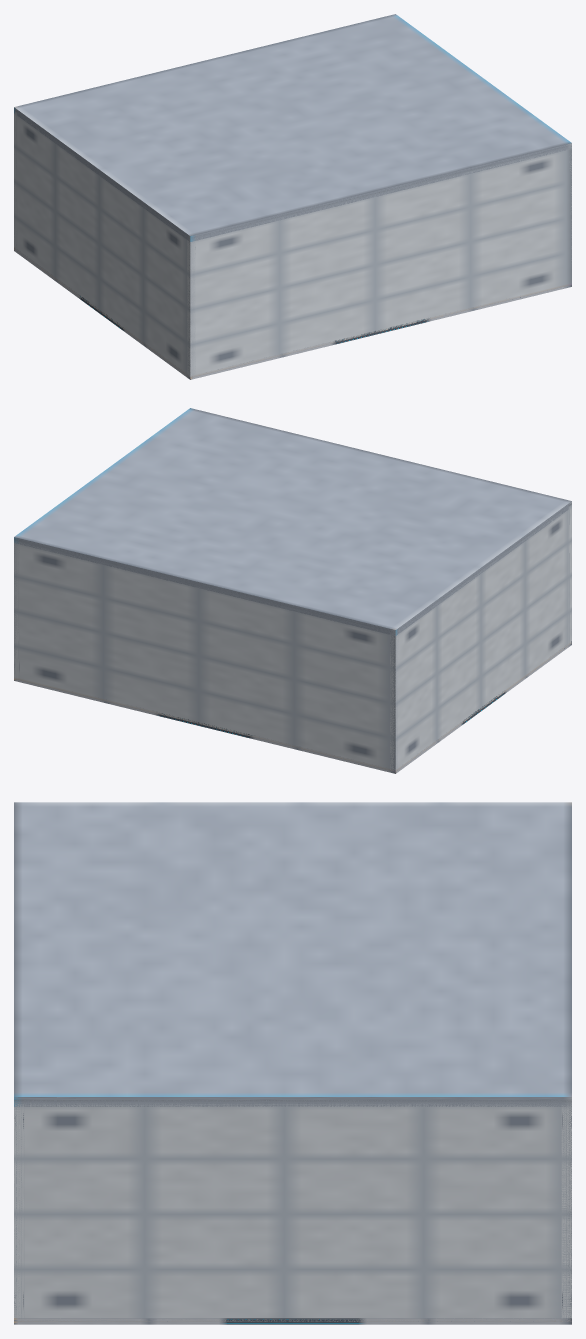
File: SciFiBridge.obj
The picture shows the model from 3 angles, top to bottom: view 1: azimuth 30°, elevation 25°; view 2: azimuth 150°, elevation 25°; view 3: azimuth 270°, elevation 25°; orthographic projection. The views are drawn at different scales.
Visible parts, largest first — view 1: SciFiBridge; view 2: SciFiBridge; view 3: SciFiBridge.
Part boxes in pixels (x1,y1,x2,y2): SciFiBridge: (14, 14, 571, 379); SciFiBridge: (14, 408, 571, 773); SciFiBridge: (14, 802, 571, 1324).
Size of the model in its own units: 10 by 3.6 by 8.
Materials: 1 (1 with a texture image).
